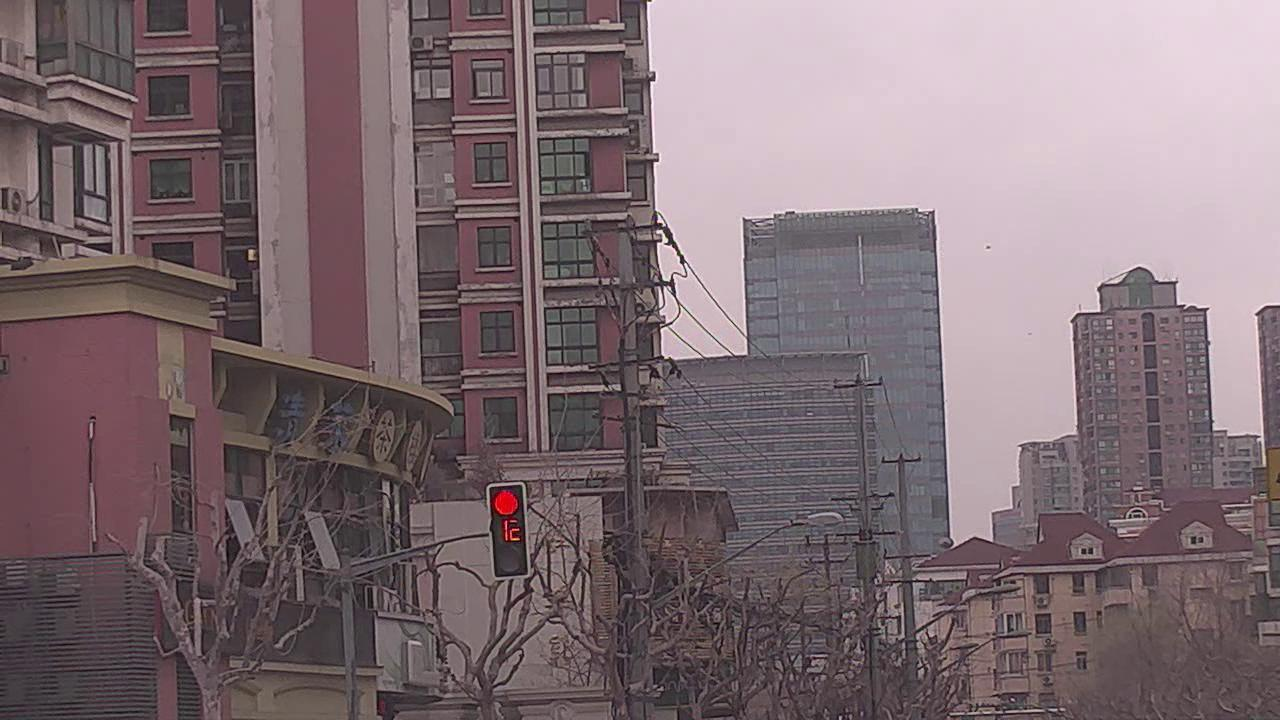traffic_light: (488, 480, 532, 577)
